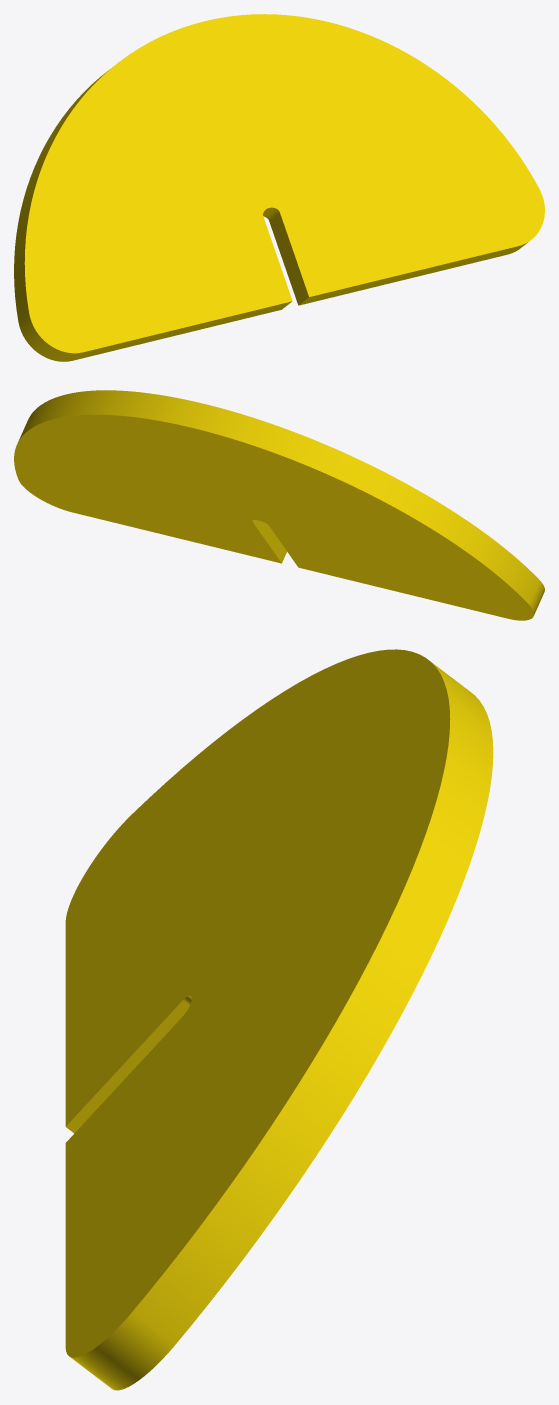
File: piezacircular.glb
The picture shows the model from 3 angles, top to bottom: view 1: azimuth 30°, elevation 25°; view 2: azimuth 150°, elevation 25°; view 3: azimuth 270°, elevation 25°; orthographic projection. The views are drawn at different scales.
Visible parts, largest first — view 1: Componente2; view 2: Componente2; view 3: Componente2.
Boxes of the visible parts, x1=… form: Componente2: x1=14, y1=14, x2=544, y2=361; Componente2: x1=14, y1=390, x2=544, y2=620; Componente2: x1=65, y1=649, x2=493, y2=1390.
Size of the model in its own units: 209 by 87.7 by 75.86.
